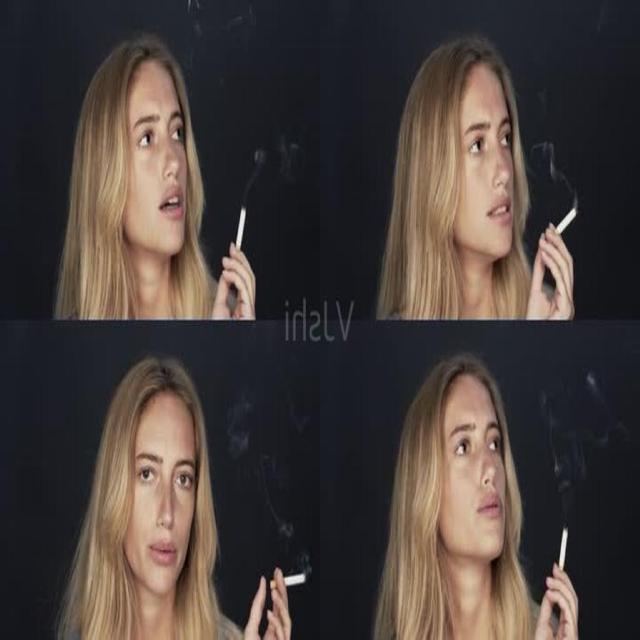smoking: (75, 354, 314, 637), (397, 350, 588, 640), (74, 29, 260, 320), (398, 26, 581, 321)
